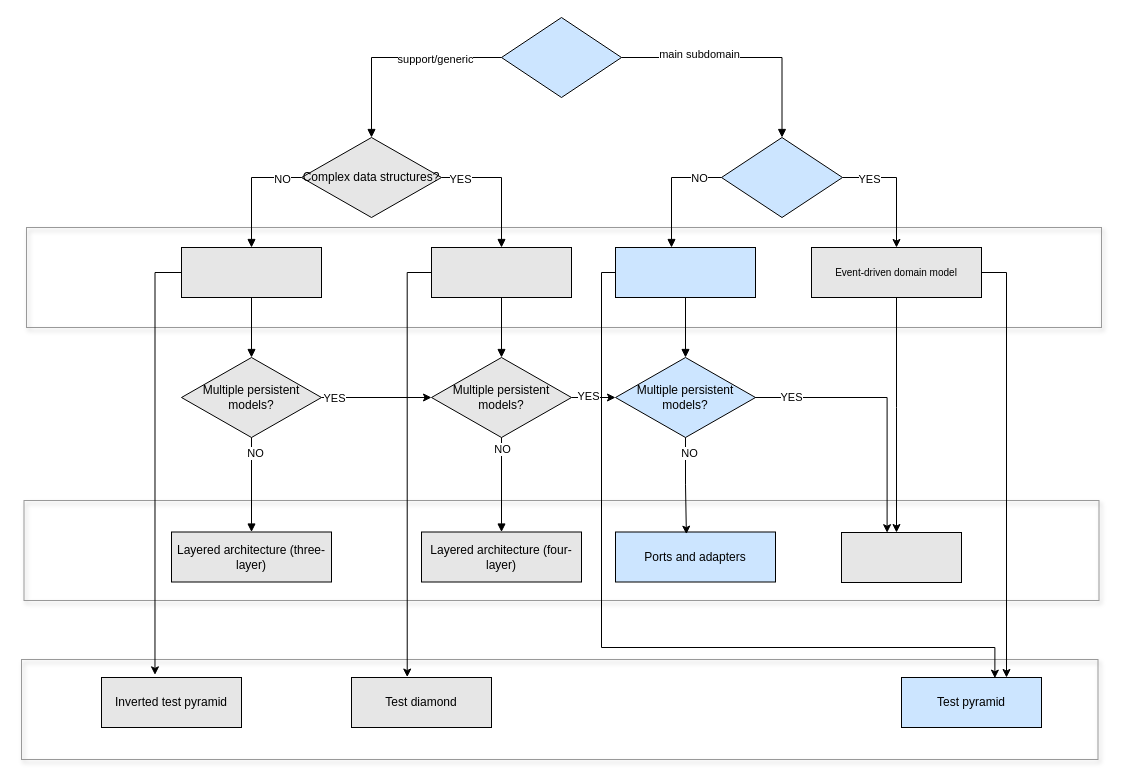
Some shapes in this 1125 by 784 pixel diagram are drawn without their labels. Here are the shapes that lost their labels. From the top down, the centre of each, then its label:
At pixel 561 57: "Type of Subdomain".
At pixel 781 177: "Monetary transactions, analytics, audit log?".
At pixel 251 272: "Transaction script".
At pixel 501 272: "Active record".
At pixel 685 272: "Domain model".
At pixel 901 557: "CQRS".
